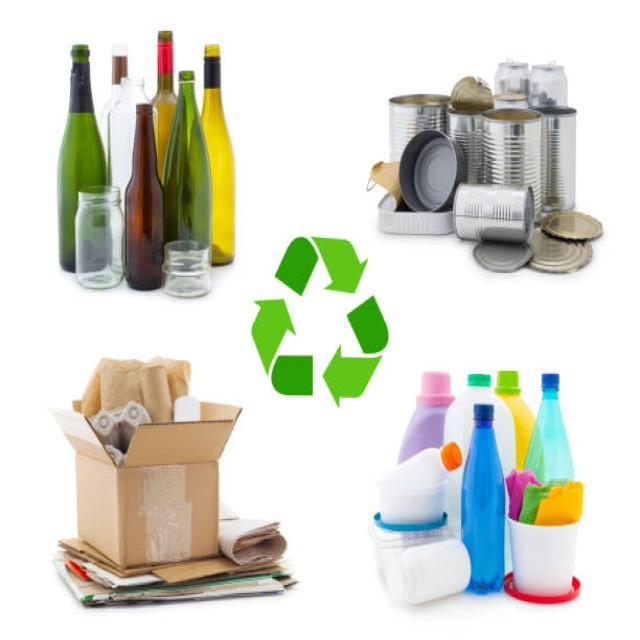cardboard: (35, 343, 308, 612)
glass: (35, 18, 246, 297)
metal: (356, 18, 612, 280)
plastic: (376, 367, 580, 608)
